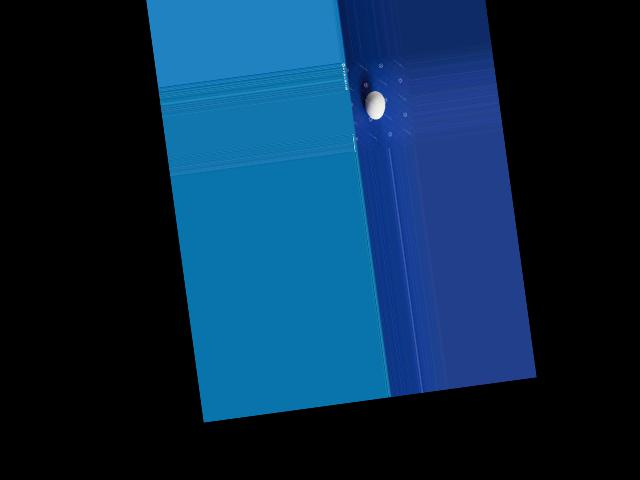egg: (362, 90, 386, 121)
